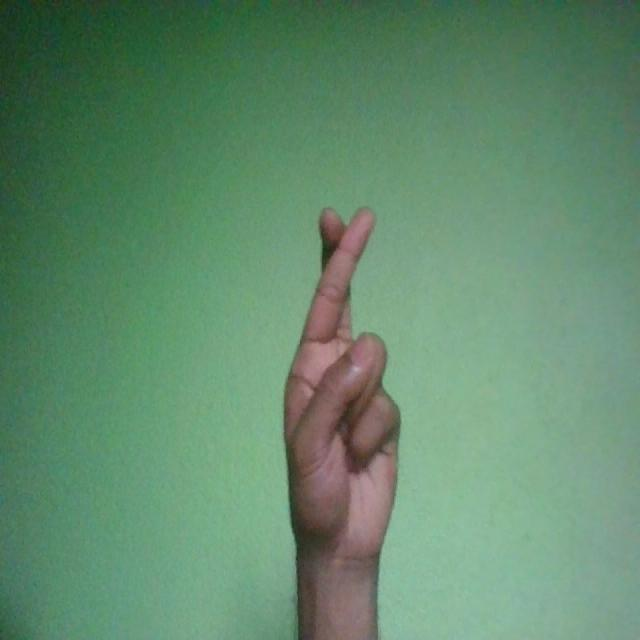Ok: (282, 204, 400, 579)
